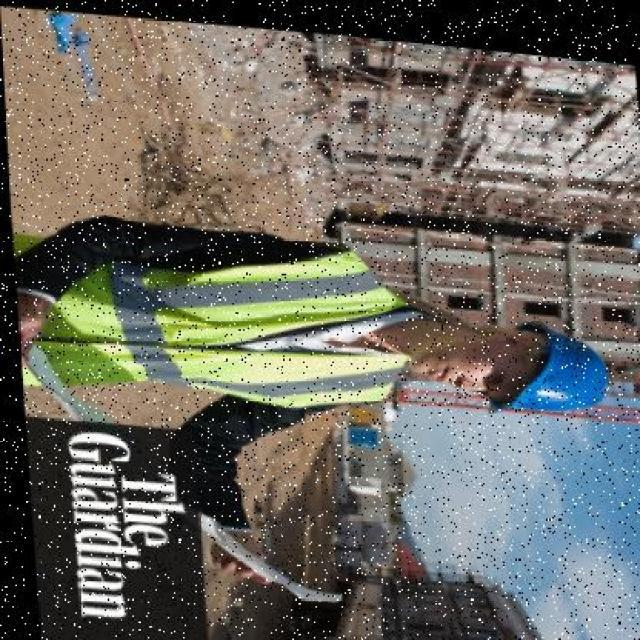helmet: (476, 308, 609, 410)
vest: (9, 222, 413, 407)
